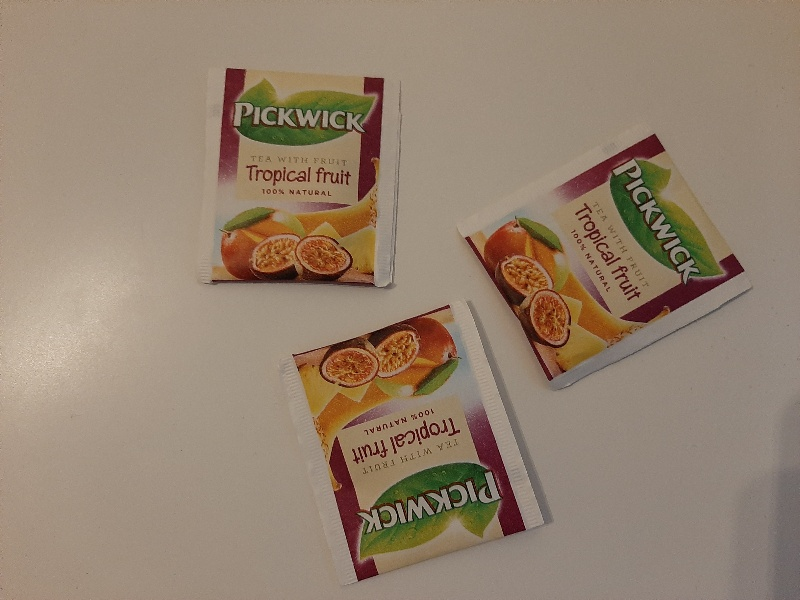tropisch: (272, 296, 565, 589), (452, 120, 755, 394), (198, 62, 398, 291)
